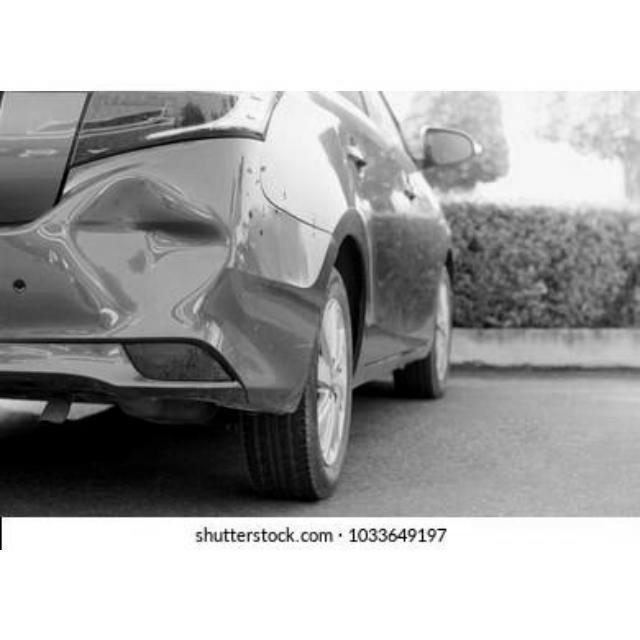rear-bumper-dent: (0, 138, 288, 398)
